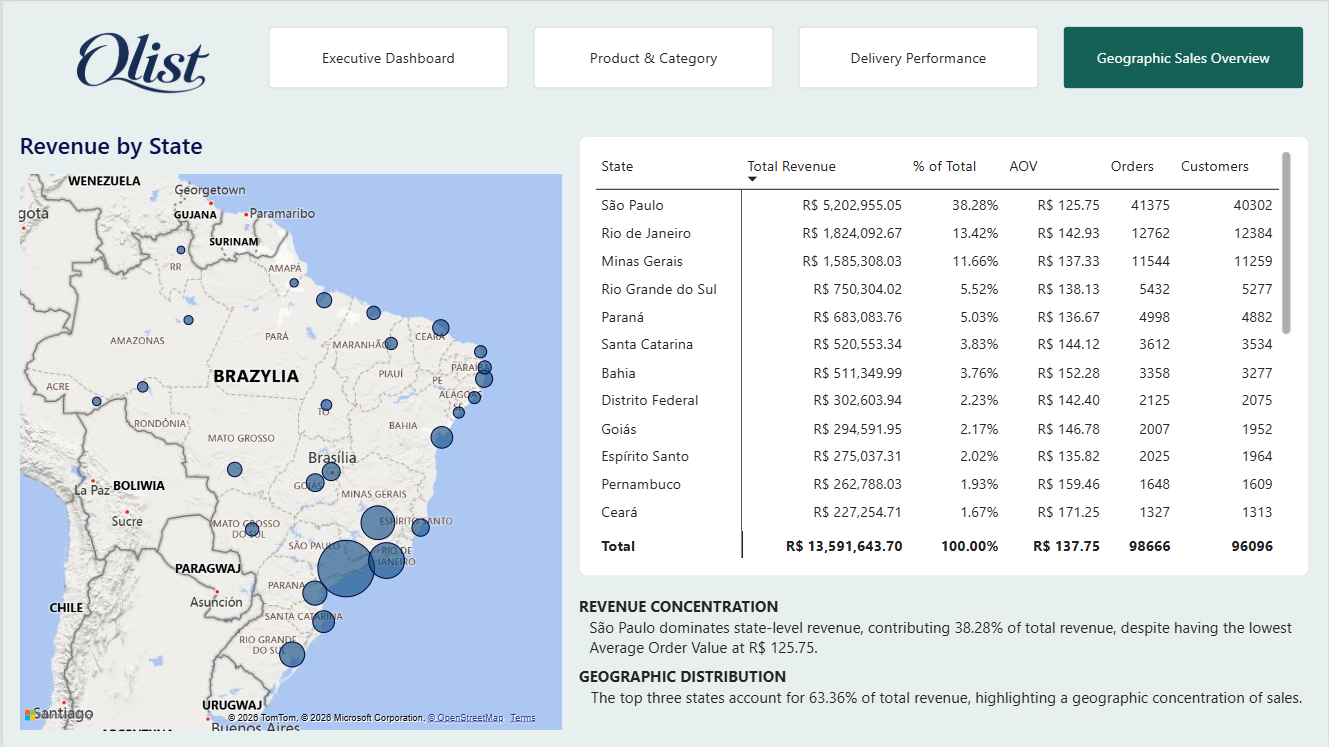

The page's visual inventory and layout, read from the dashboard file:
{"tool":"powerbi","page":{"name":"Geographic Sales Overview","canvas":[1280,720],"ordinal":3},"visuals":[{"type":"map","title":"Revenue by State","fields":{"Category":["customers.State Name"],"Size":["_measures.Total Revenue"]},"box":[0,108.5,555.9,611.9],"z":0},{"type":"image","box":[22.8,3.7,216.3,105.7],"z":1000},{"type":"pivotTable","fields":{"Rows":["customers.State Name"],"Values":["_measures.Total Revenue","_measures.% of Total Revenue by State","_measures.Average Order Value","_measures.Orders with Items","_measures.Unique Customers"]},"box":[555.9,130.5,705.1,425.4],"z":2000},{"type":"textbox","box":[555.8,573.3,222.1,22.1],"z":3000},{"type":"pageNavigator","box":[257,24.4,1000.3,60.2],"z":4000},{"type":"textbox","box":[555.8,641.9,231.4,20.9],"z":5000},{"type":"textbox","box":[566.9,594.9,702.9,47.1],"z":6000},{"type":"textbox","box":[567.4,662.8,713.2,41.9],"z":7000}]}

Visuals, with their boxes in screenshot pixels (x1, y1, x2, y2), scaled from the page's 1280x720 canvas onto the 1329x747 screenshot:
"Revenue by State" map: box(0, 113, 577, 746)
image: box(24, 4, 248, 114)
pivotTable - customers.State Name x _measures.Total Revenue: box(577, 135, 1309, 577)
textbox: box(577, 595, 808, 618)
pageNavigator: box(267, 25, 1305, 88)
textbox: box(577, 666, 817, 688)
textbox: box(589, 617, 1318, 666)
textbox: box(589, 688, 1328, 731)
